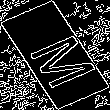M_NE: (14, 23, 96, 87)
